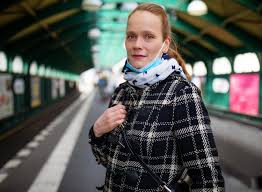mask_weared_incorrect: (126, 19, 161, 73)
